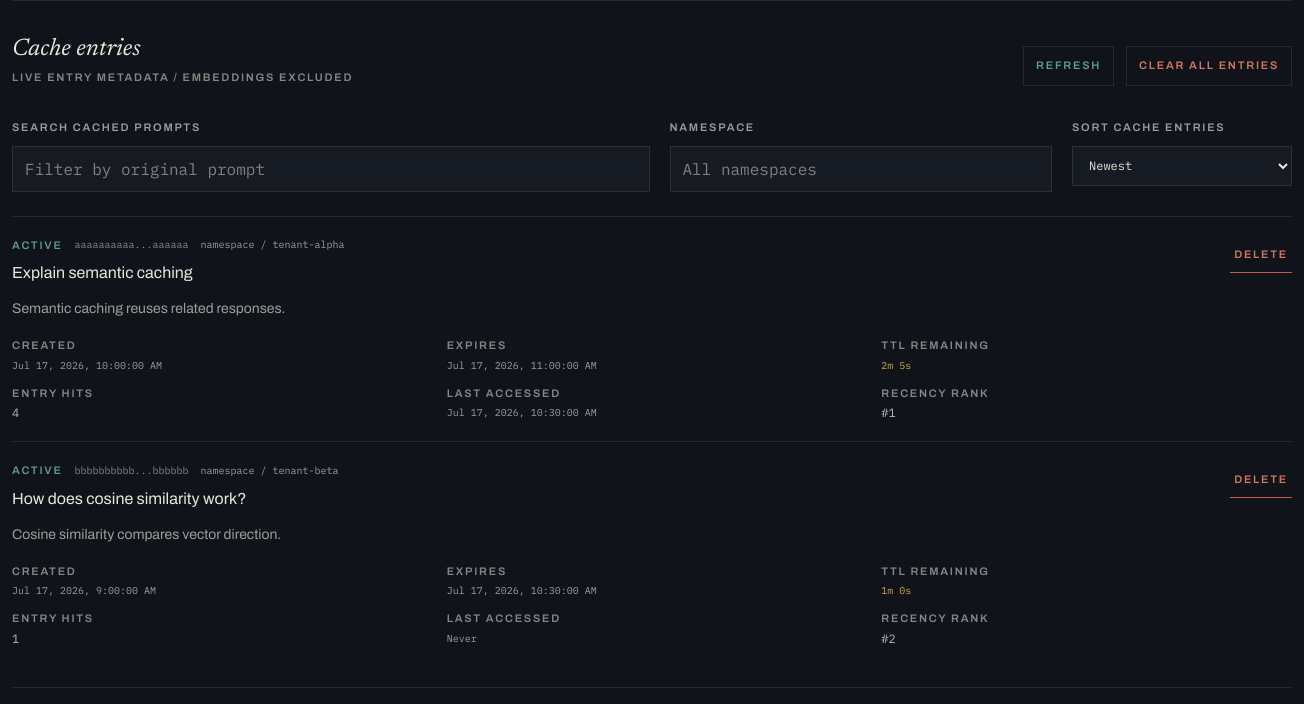
Scenario: CacheInspector › filters and clears one namespace
Check: the heading "Explain semantic caching" is shown, box [12, 264, 193, 281]
Type "tenant-alpha" into the field labelled "Namespace".
click(861, 168); type("tenant-alpha")  # box [670, 146, 1052, 192]
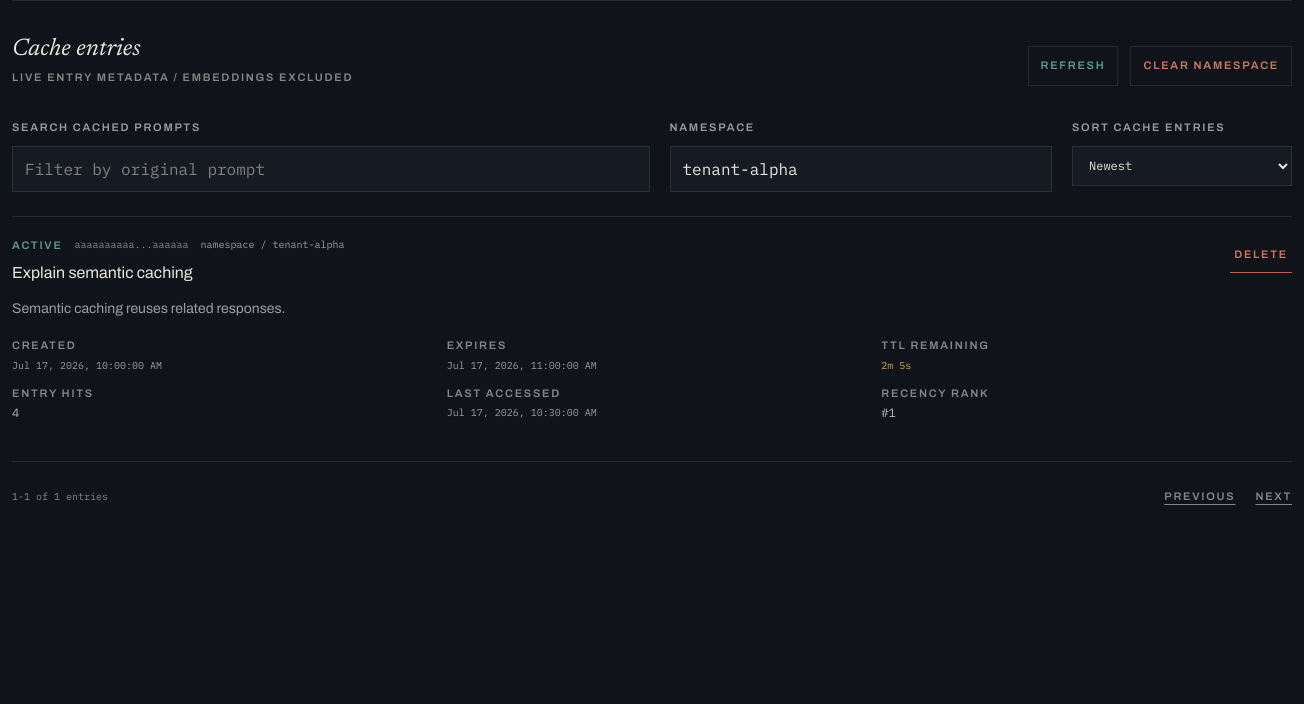
Check: the heading "Explain semantic caching" is shown, box [12, 264, 193, 281]
Check: the heading "How does cosine similarity work?" is gone
Click the button "Clear namespace".
click(1211, 66)  # box [1130, 46, 1292, 86]
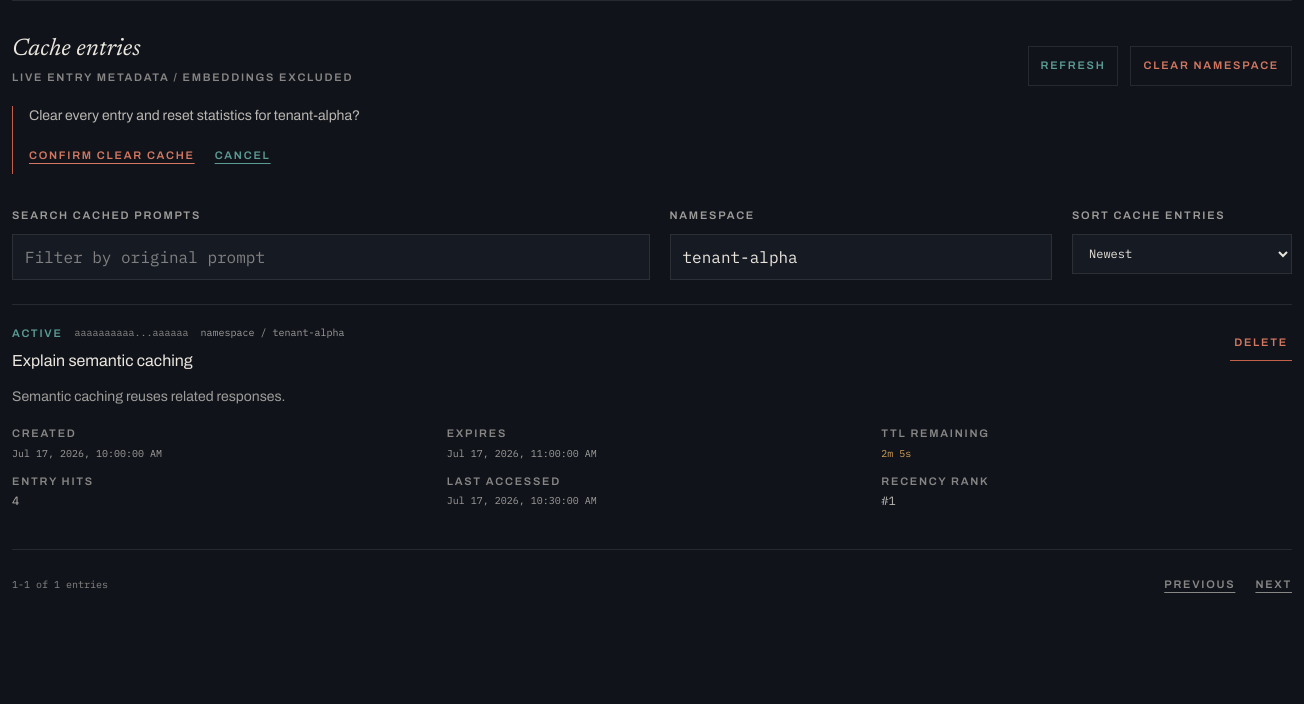
Click the button "Confirm clear cache".
click(112, 156)  # box [29, 138, 195, 174]
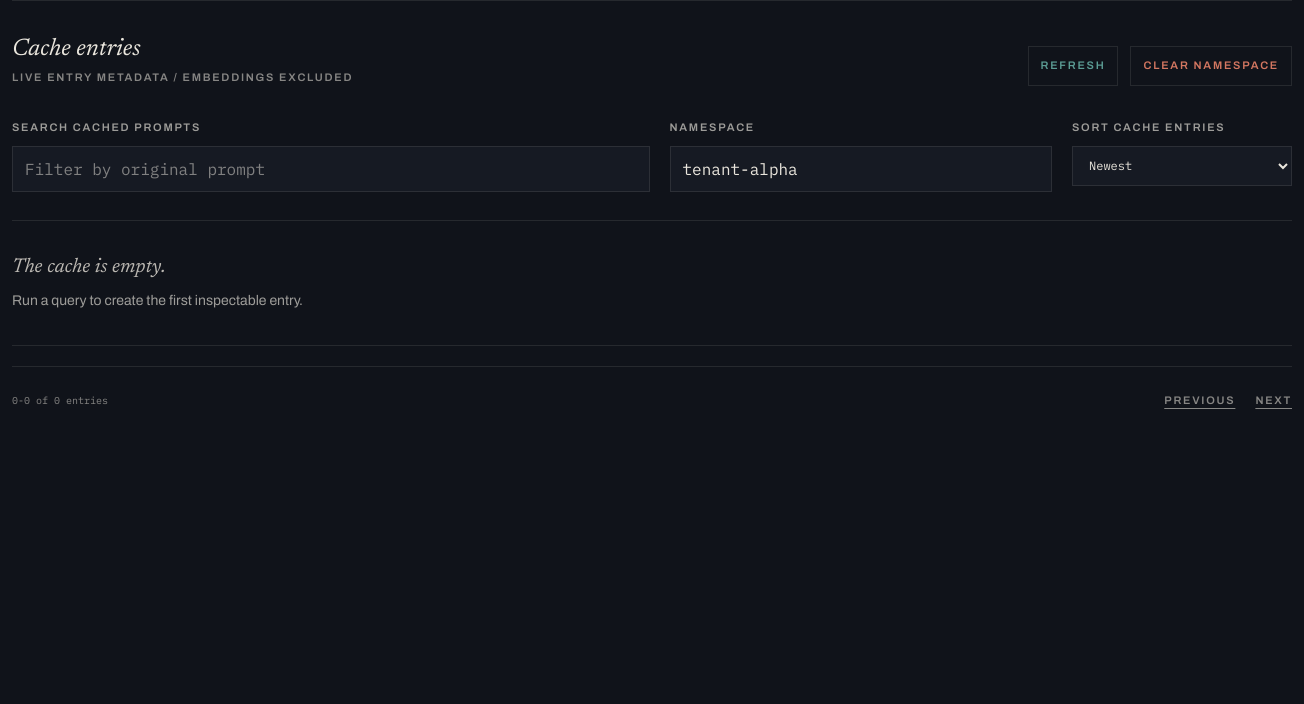
Check: the text "The cache is empty." is shown, box [12, 256, 166, 276]
